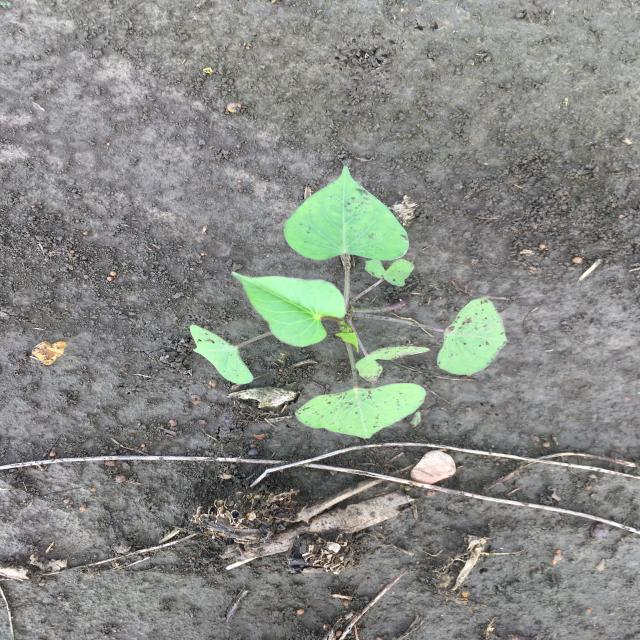MorningGlory: (186, 163, 511, 441)
